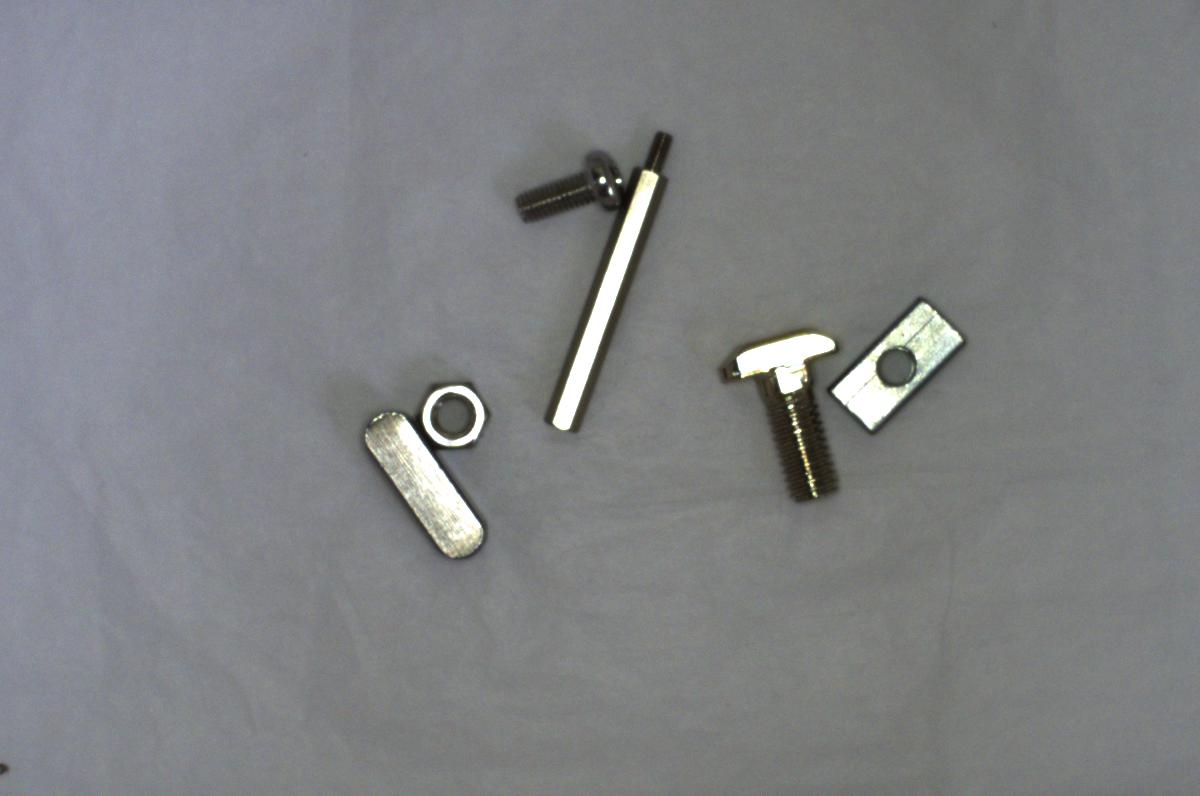Hexagon nut: (413, 367, 495, 462)
Hexagonal steel column: (526, 126, 680, 440)
Keybar: (354, 393, 491, 565)
Rectangular nut: (828, 288, 972, 436)
Round head screw: (501, 140, 624, 222)
T-shaped screw: (717, 321, 850, 505)
